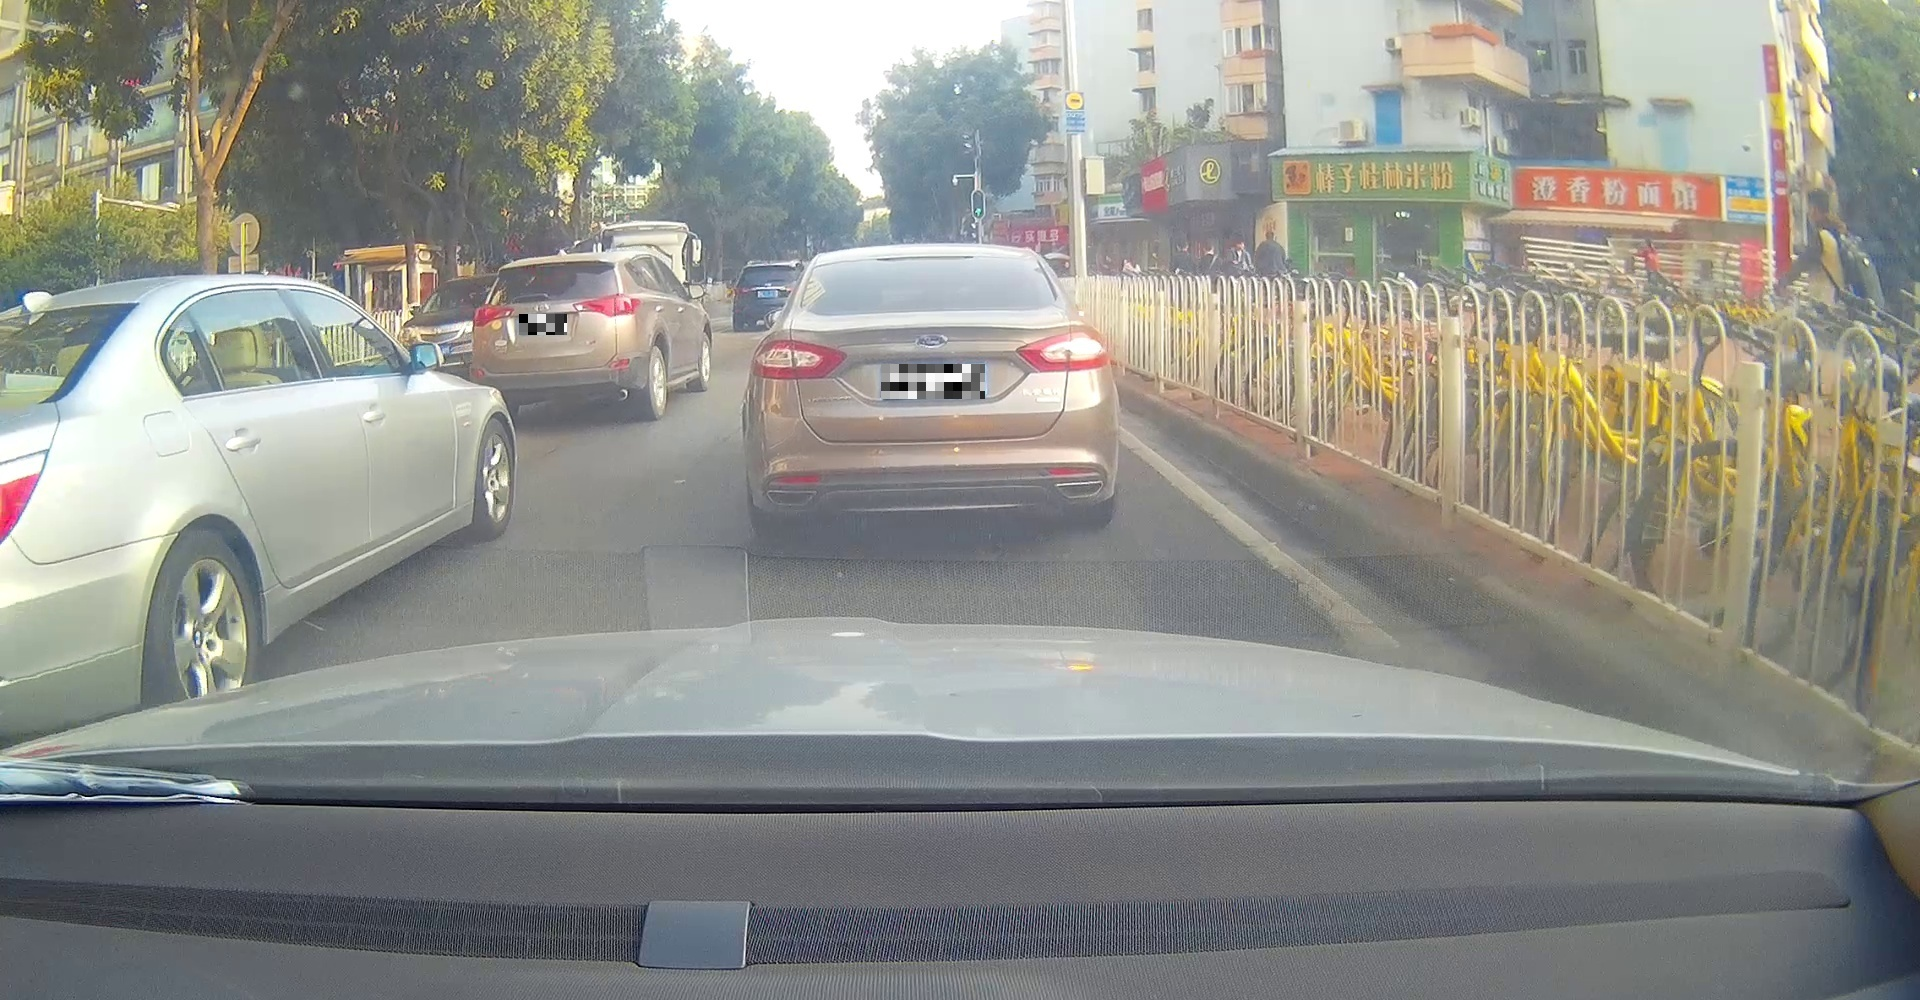L_light: (750, 339, 848, 379), (472, 305, 516, 327)
R_light: (1015, 329, 1111, 373), (573, 293, 643, 317)
T_light: (902, 258, 961, 269), (535, 266, 563, 272)
day-no: (749, 245, 1117, 541), (472, 254, 645, 423)
plate_1: (519, 313, 568, 335)
plate_2: (881, 364, 985, 398)
